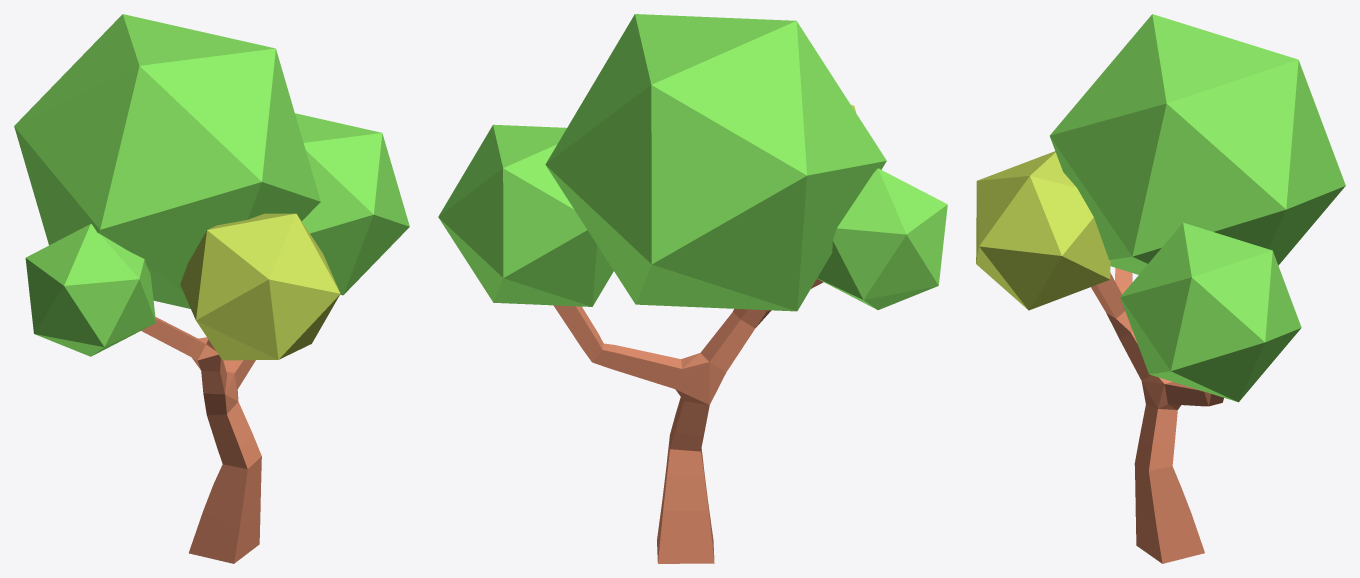
File: Tree 10.fbx
The picture shows the model from 3 angles, left to right: view 1: azimuth 30°, elevation 25°; view 2: azimuth 150°, elevation 25°; view 3: azimuth 270°, elevation 25°; orthographic projection. The views are drawn at different scales.
Parts seen in each view (by area): view 1: Tree 10; view 2: Tree 10; view 3: Tree 10.
Part boxes in pixels (<box>): Tree 10: <box>14,14,409,563</box>; Tree 10: <box>438,14,947,563</box>; Tree 10: <box>976,14,1345,563</box>.
Bounding box in the file's own units: 465 × 571 × 390.
